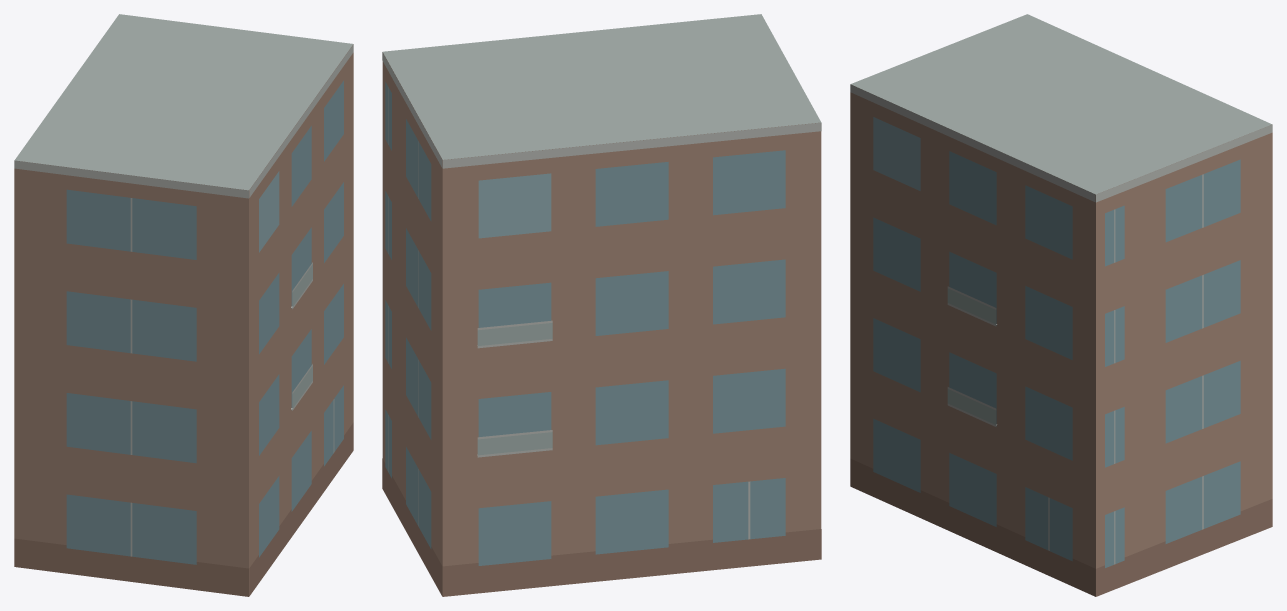
The model's file is residential-7bcae356-7f1b-4030-a407-702d6c7d40c5.glb.
3 renders of one model, left to right at view 1: azimuth 30°, elevation 25°; view 2: azimuth 150°, elevation 25°; view 3: azimuth 270°, elevation 25°, orthographic. The views are drawn at different scales.
Visible parts, largest first — view 1: residential-7bcae356-7f1b-4030-a407-702d6c7d40c5.tmp; view 2: residential-7bcae356-7f1b-4030-a407-702d6c7d40c5.tmp; view 3: residential-7bcae356-7f1b-4030-a407-702d6c7d40c5.tmp.
Part boxes in pixels (bbox=[...]): residential-7bcae356-7f1b-4030-a407-702d6c7d40c5.tmp: bbox=[14, 14, 353, 596]; residential-7bcae356-7f1b-4030-a407-702d6c7d40c5.tmp: bbox=[382, 14, 821, 596]; residential-7bcae356-7f1b-4030-a407-702d6c7d40c5.tmp: bbox=[850, 14, 1272, 596].
Size of the model in its own units: 11.75 by 12.2 by 11.61.
